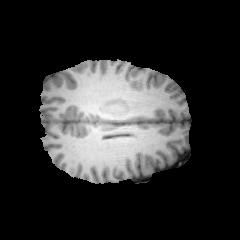glioma: (99, 97, 130, 117)
